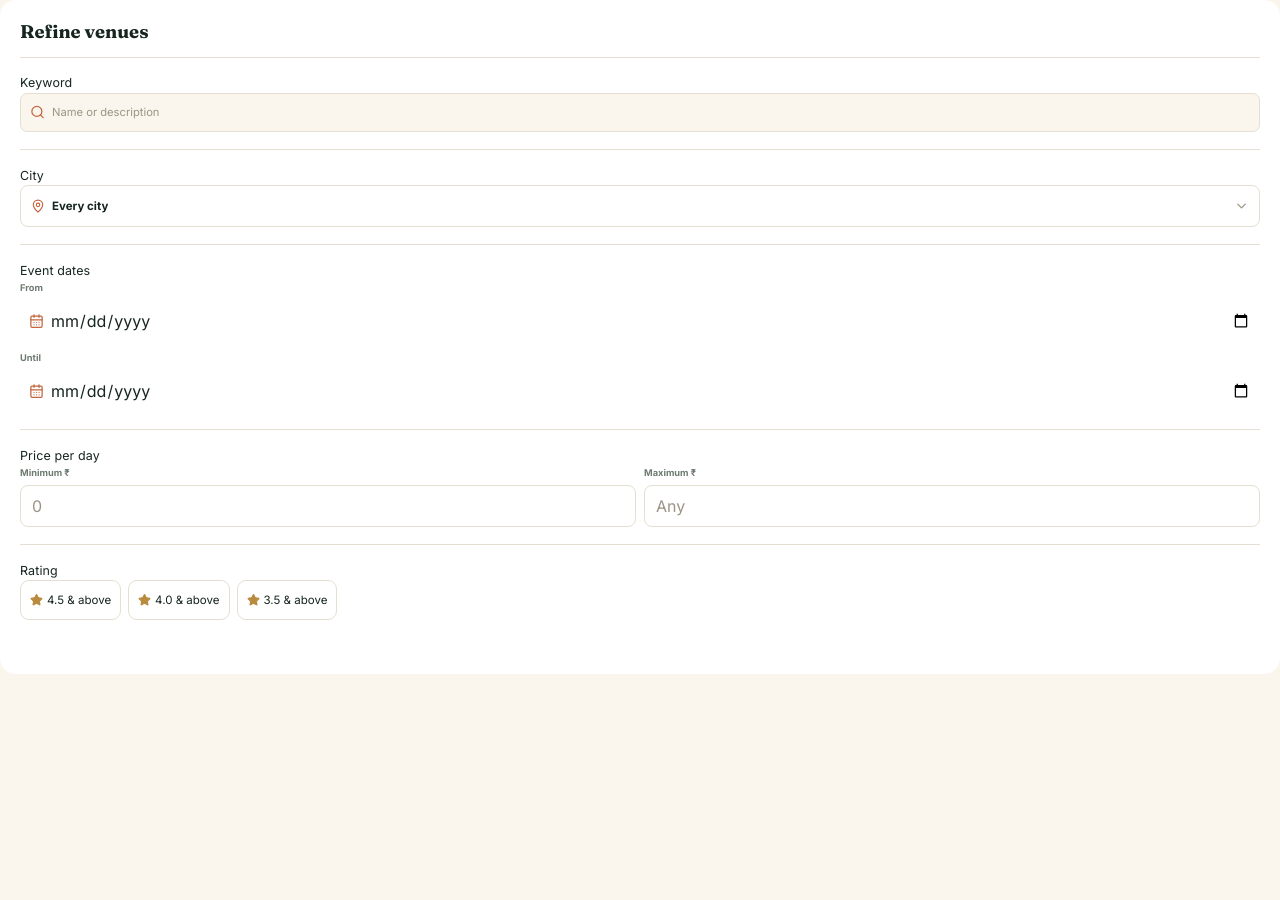
Scenario: ServiceFilters › shows a helpful message when a searched city is unavailable
The image size is (1280, 900).
Click the button "Every city": [80, 206] box [20,185,1260,227]
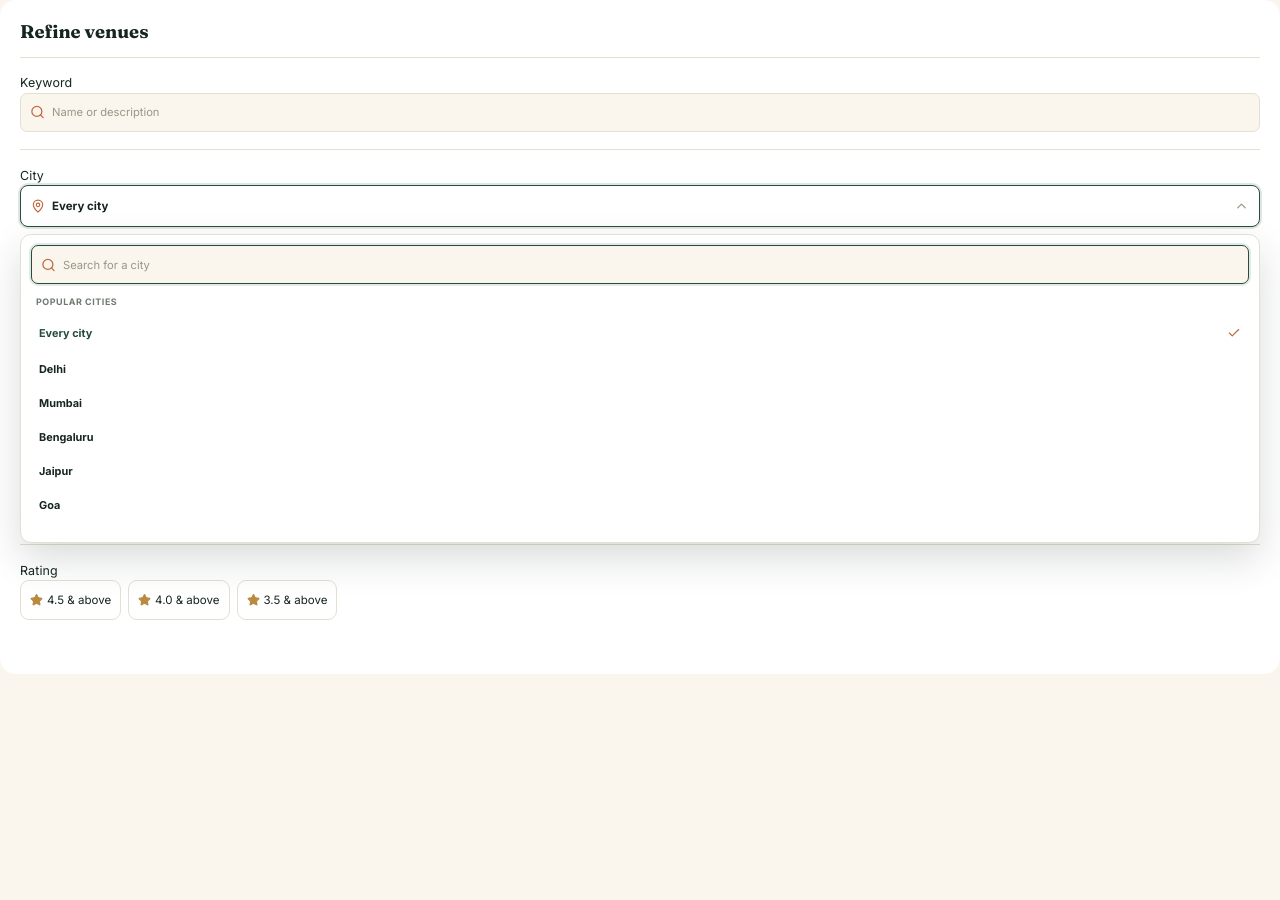
In the search field named "Search cities": [651, 265] box [63,256,1239,273], type "Kochi"
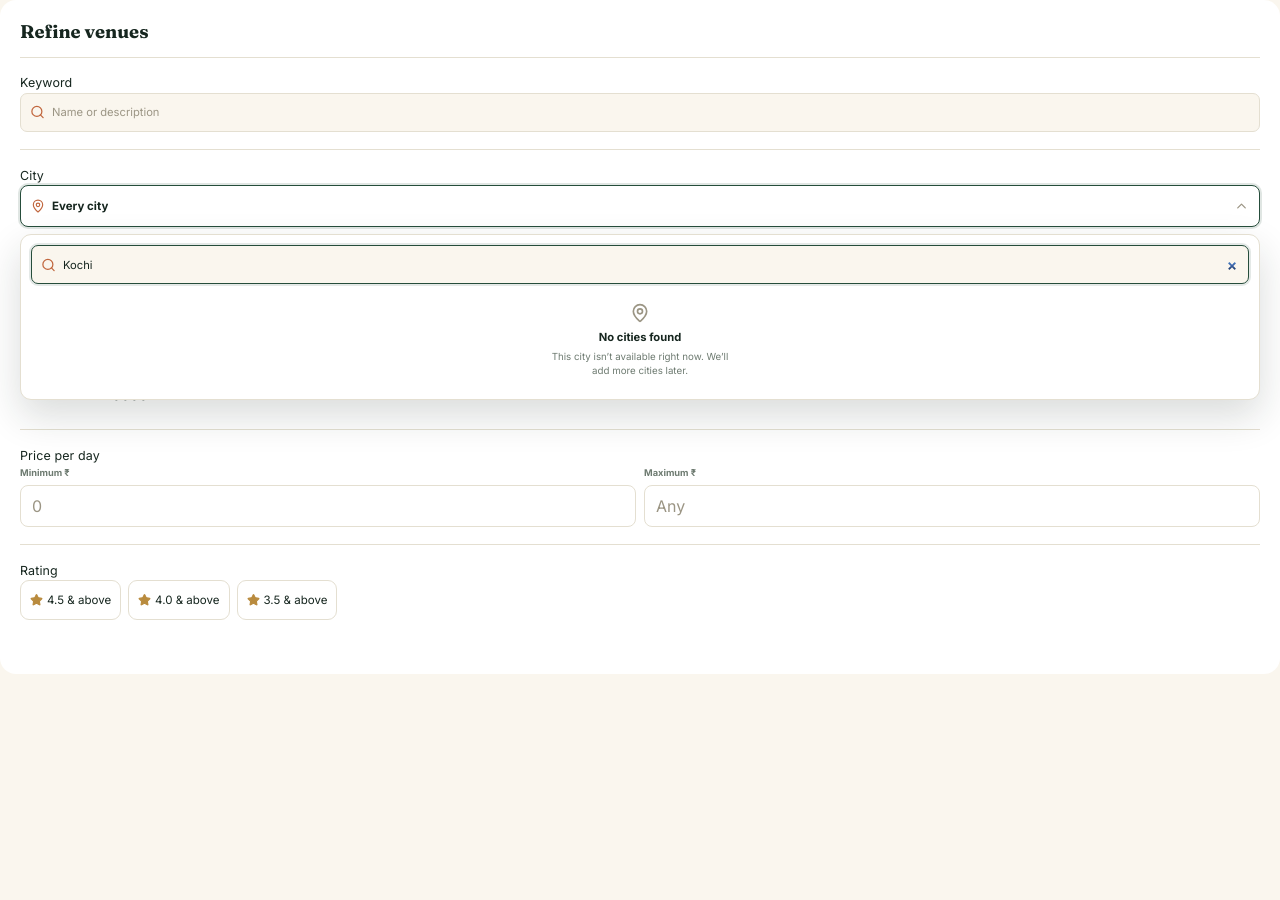
Expected: the text "No cities found" is shown, [599,329,681,346]
Expected: the text "isn’t available right now" is shown, [552,351,728,376]
